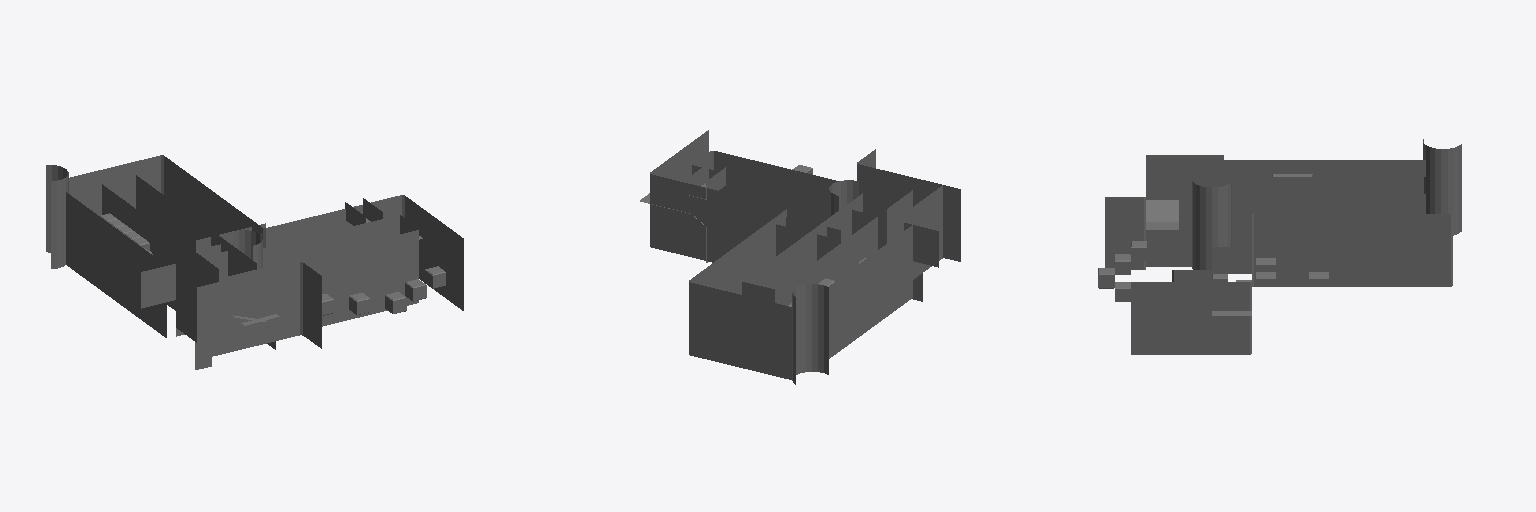
Rendered from l0_5_mir.obj.
3 views of the same model, side by side, from view 1: azimuth 30°, elevation 25°; view 2: azimuth 150°, elevation 25°; view 3: azimuth 270°, elevation 25° (orthographic).
Parts seen in each view (by area): view 1: polySurface132 level1, level1 polySurface153, level1 polySurface96, level1 polySurface140, level1 polySurface2; view 2: polySurface132 level1, level1 polySurface153, level1 polySurface96, level1 polySurface2; view 3: polySurface132 level1, level1 polySurface153, level1 polySurface96, level1 polySurface2, level1 polySurface140.
Part boxes in pixels (x1,y1,x2,y2): polySurface132 level1: (66,163,463,359); level1 polySurface153: (102,155,423,348); level1 polySurface96: (46,165,262,268); level1 polySurface140: (100,213,445,315); level1 polySurface2: (176,198,422,369); polySurface132 level1: (669,130,960,379); level1 polySurface153: (650,149,890,362); level1 polySurface96: (792,180,866,384); level1 polySurface2: (640,163,922,301); polySurface132 level1: (1131,155,1425,354); level1 polySurface153: (1105,177,1452,354); level1 polySurface96: (1192,139,1461,269); level1 polySurface2: (1146,200,1328,315); level1 polySurface140: (1098,241,1251,301).
Size of the model in its own units: 8193 by 2949 by 9002.